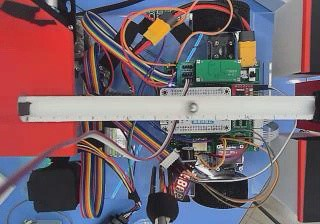ironball: (186, 101, 197, 113)
